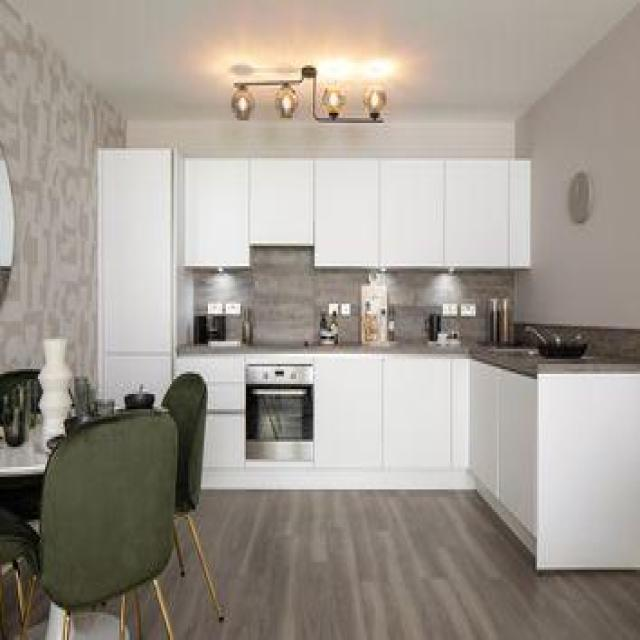Wall: (18, 1, 640, 120), (161, 491, 640, 639), (0, 0, 127, 379), (517, 5, 640, 327), (193, 246, 370, 346), (517, 85, 589, 322), (129, 120, 516, 157), (386, 271, 513, 343), (515, 325, 640, 362), (139, 590, 164, 638), (6, 581, 16, 636), (33, 592, 47, 622)
